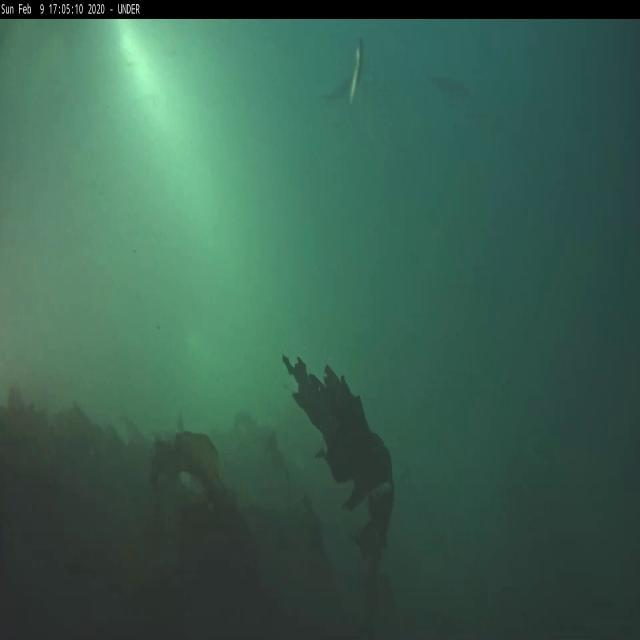fish: (350, 40, 362, 109)
